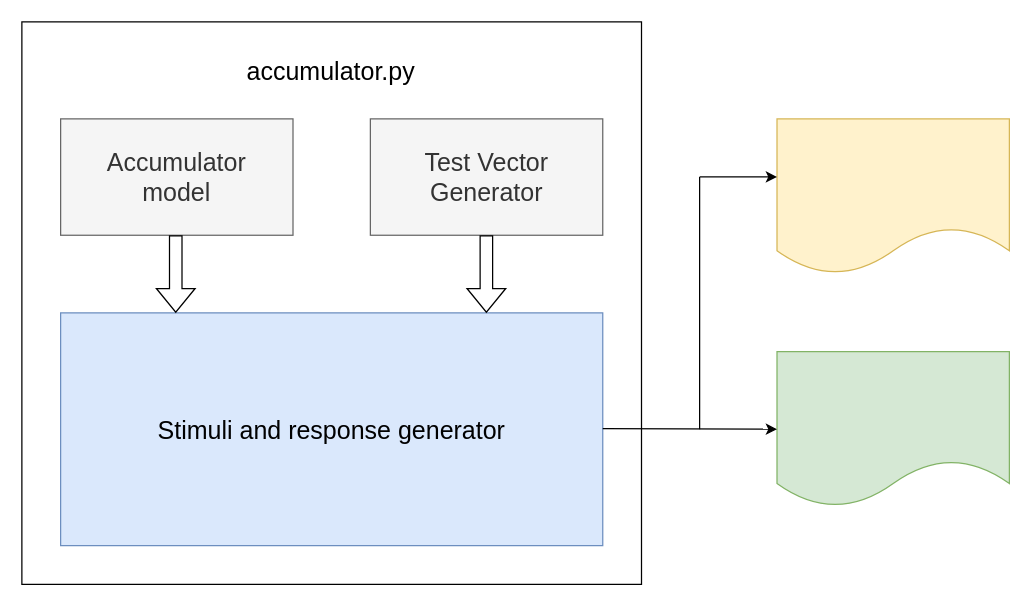
The diagram is 1031 pixels wide and 606 high, and some of its shapes have lost their labels. The box of each missing label's shape, as (x1, y1, x2, y2) in pixels:
Restonses vectors: (776, 350, 1009, 507)
Test vectors: (776, 118, 1009, 274)
